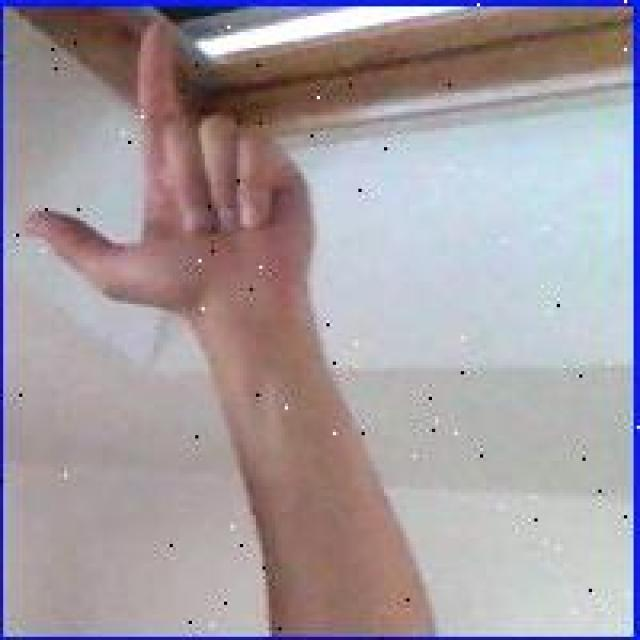L: (16, 11, 317, 370)
